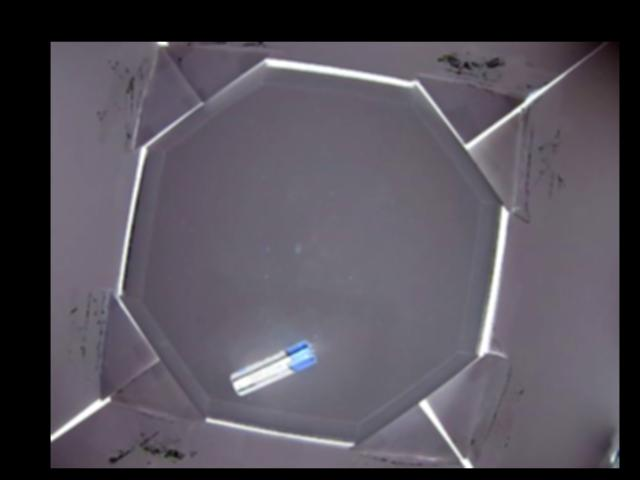Battery: (228, 339, 317, 394)
